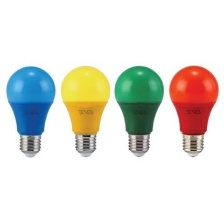light_bulb: (1, 61, 59, 160), (166, 62, 222, 160), (111, 61, 168, 157), (59, 64, 113, 158)
